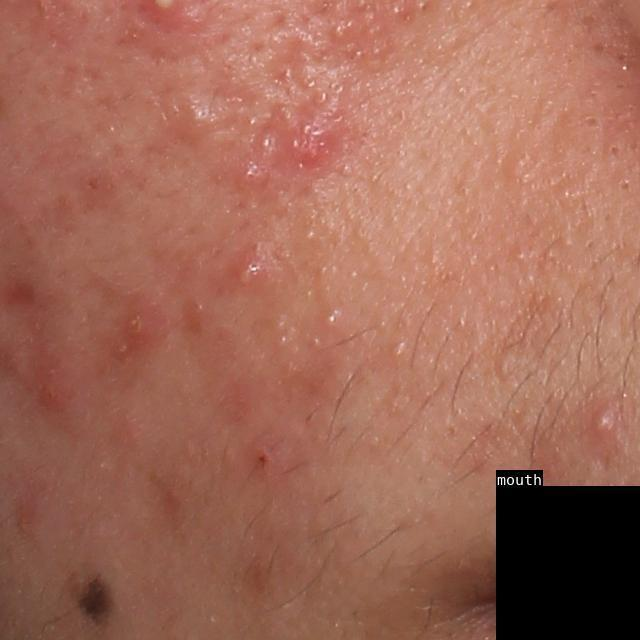atrophic_scar: (250, 27, 320, 99), (251, 99, 299, 177)
comedo: (577, 115, 603, 134), (320, 310, 342, 331), (389, 342, 407, 363)
nevus: (76, 568, 115, 634)
papule: (115, 290, 173, 354), (176, 101, 220, 141), (291, 134, 333, 174), (34, 367, 66, 411), (235, 159, 273, 192)
pustule: (226, 252, 279, 294)
